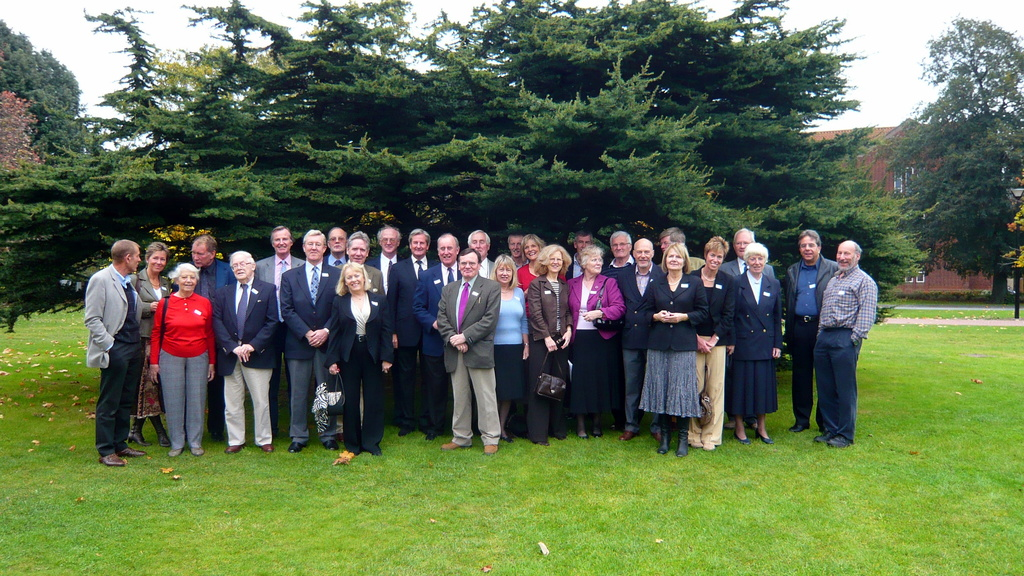Tree: (0, 0, 935, 340), (871, 9, 1023, 309), (0, 17, 101, 170), (0, 91, 40, 174), (1002, 170, 1023, 271)
